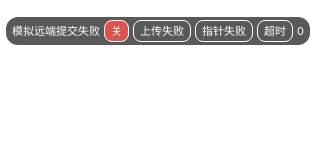
Test: the on-screen switch › four buttons set the mode; the pressed one is marked; the hit counter is shown
The image size is (327, 145).
expect the text "模拟远端提交失败" is shown: met, box [12, 22, 100, 39]
Click the button with test id "qa-remote-fault-pointer" at (224, 31), box [195, 20, 253, 42]
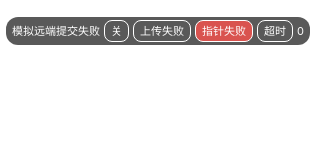
expect the button with test id "qa-remote-fault-pointer" is pressed: met, box [195, 20, 253, 42]
Click the button with test id "qa-remote-fault-upload" at (162, 31), box [133, 20, 191, 42]
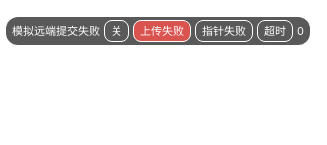
Click the button with test id "qa-remote-fault-timeout" at (275, 31), box [257, 20, 293, 42]
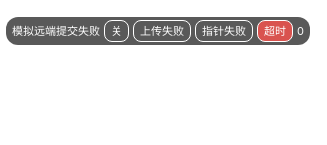
Click the button with test id "qa-remote-fault-off" at (116, 31), box [104, 20, 129, 42]
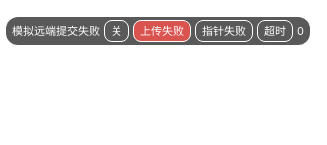
expect the element with test id "qa-remote-fault" has attribute data-mode="upload": met, box [6, 16, 310, 45]
